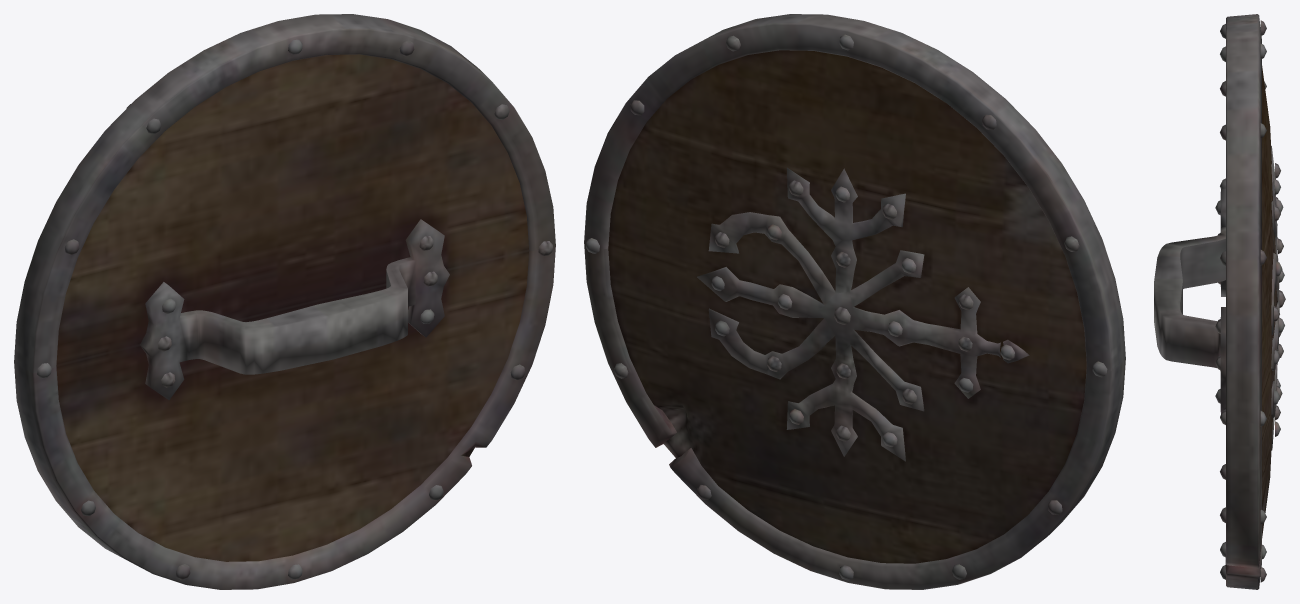
File: weapon-wp_a_2110.glb
3 views of the same model, side by side, from view 1: azimuth 30°, elevation 25°; view 2: azimuth 150°, elevation 25°; view 3: azimuth 270°, elevation 25° (orthographic). The views are drawn at different scales.
Parts seen in each view (by area): view 1: wp_a_2110_mesh; view 2: wp_a_2110_mesh; view 3: wp_a_2110_mesh.
Boxes of the visible parts, x1,y1,x2,y2 form: wp_a_2110_mesh: [14, 14, 555, 589]; wp_a_2110_mesh: [584, 14, 1125, 589]; wp_a_2110_mesh: [1154, 14, 1285, 589].
Bounding box in the file's own units: 0.4337 × 0.4337 × 0.0993.
1 material, 1 textured.
